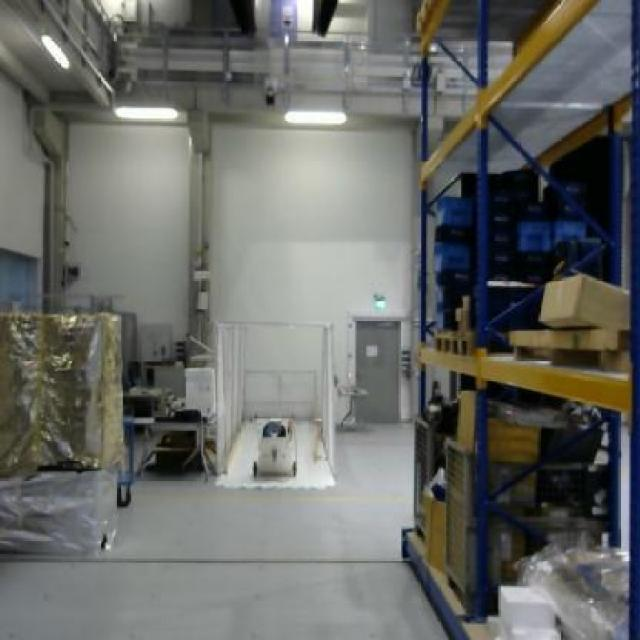box: (536, 272, 630, 332)
